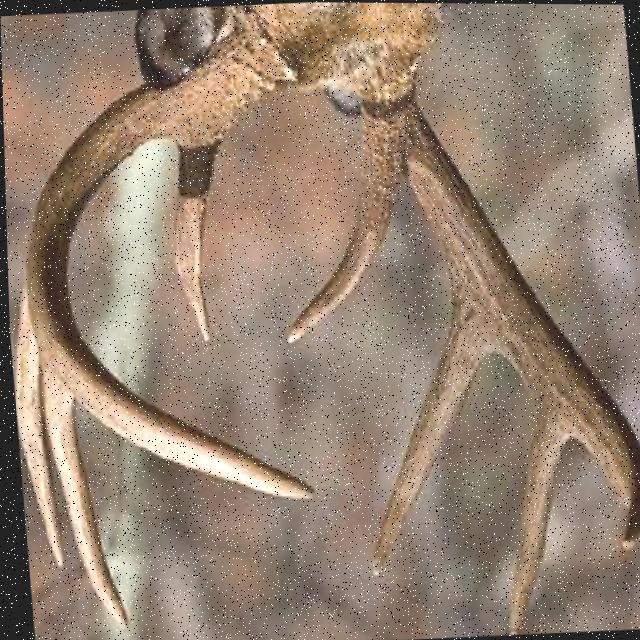L-F: (363, 99, 640, 551)
L-G1: (282, 142, 402, 345)
L-G2: (368, 280, 488, 576)
L-G3: (504, 406, 567, 634)
R-F: (24, 14, 309, 498)
R-G1: (173, 144, 217, 341)
R-G3: (40, 370, 124, 629)
